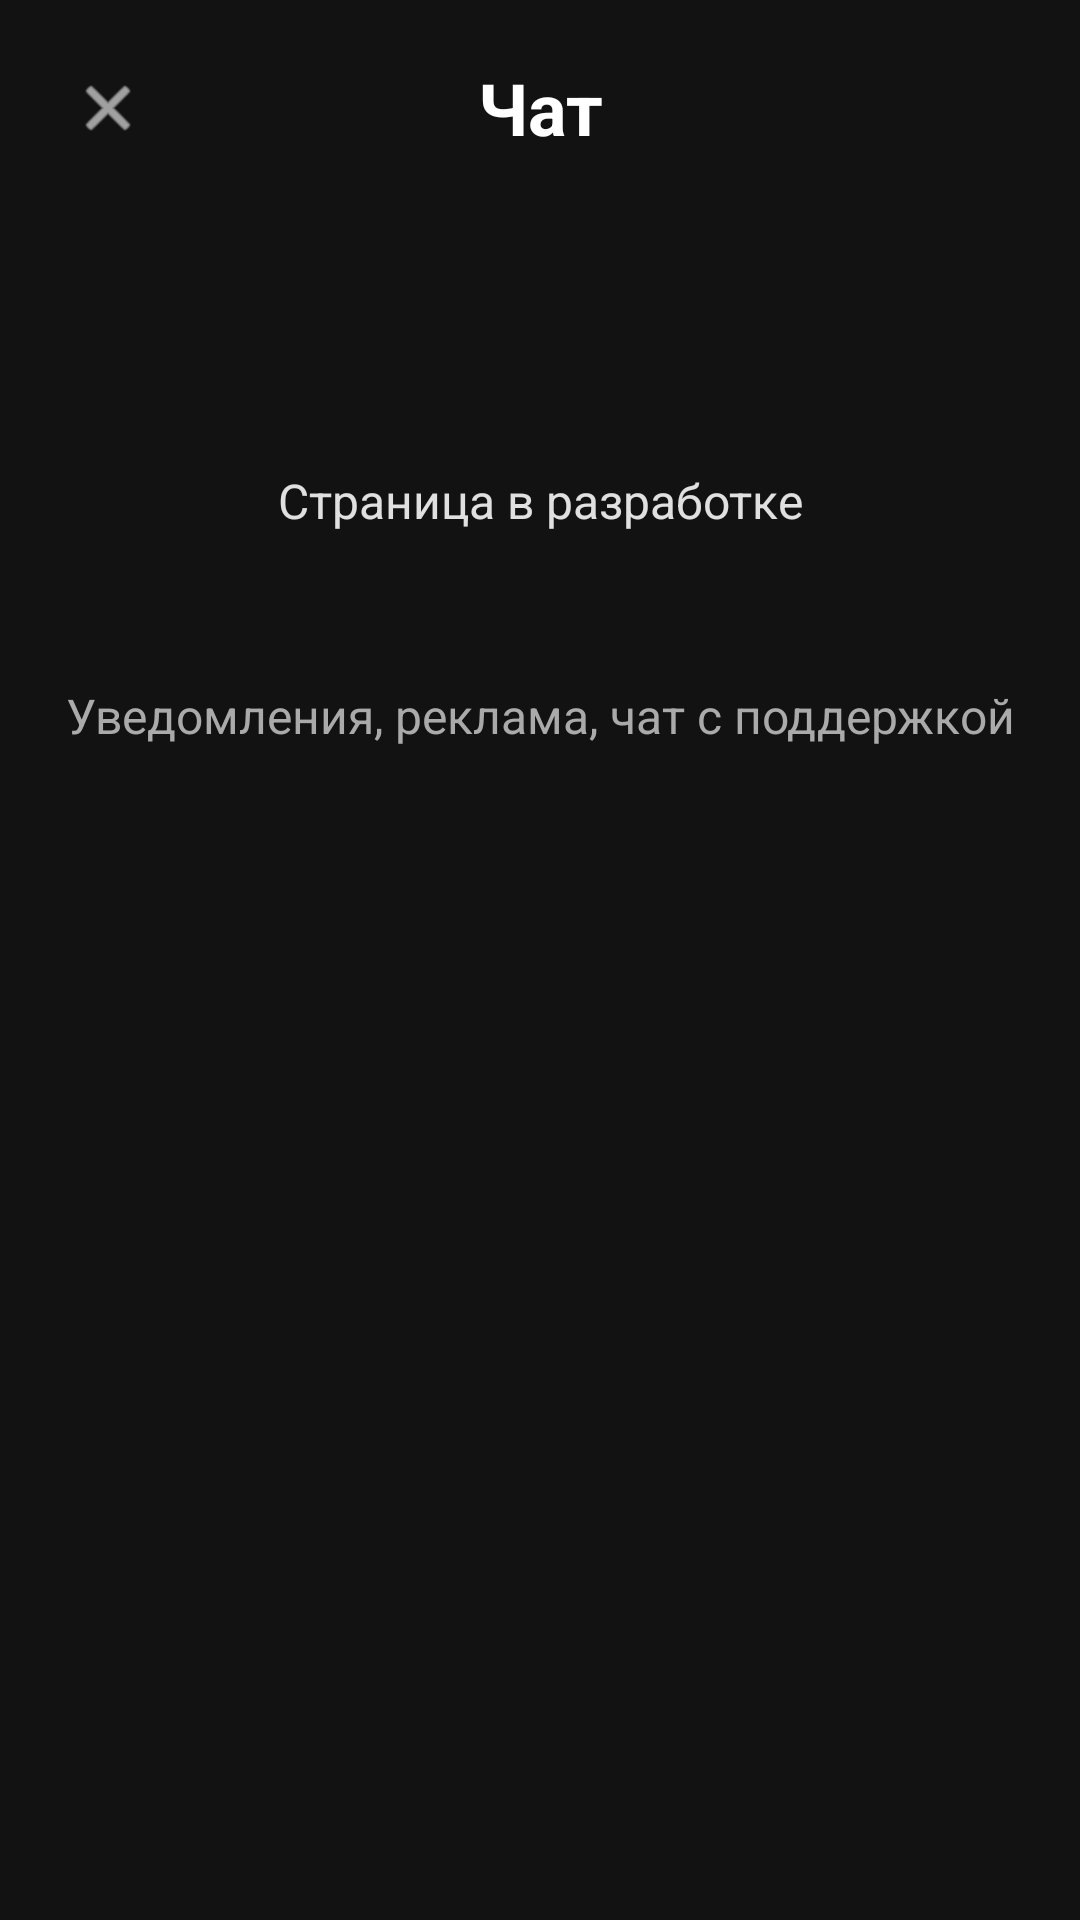

Icon click points for this 1080 × 1920 phone screenshot, format [x,y]:
Назад: [108,108]
